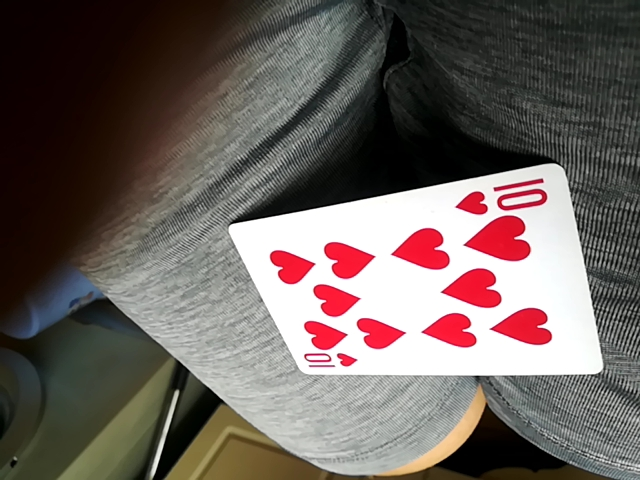hx 10: (228, 166, 604, 373)
